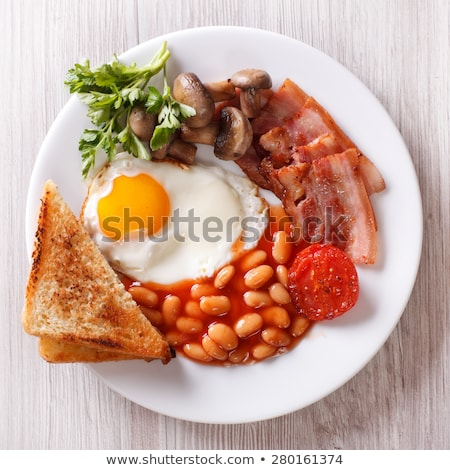fried egg: (93, 175, 236, 247)
slice of bread: (21, 197, 138, 362)
